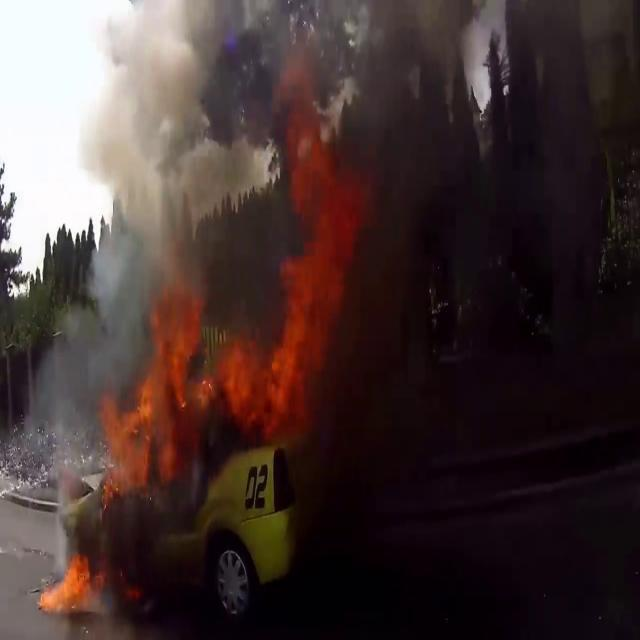Fire: (92, 258, 320, 478), (237, 119, 367, 442), (38, 554, 104, 608)
Smoke: (76, 5, 258, 282)
